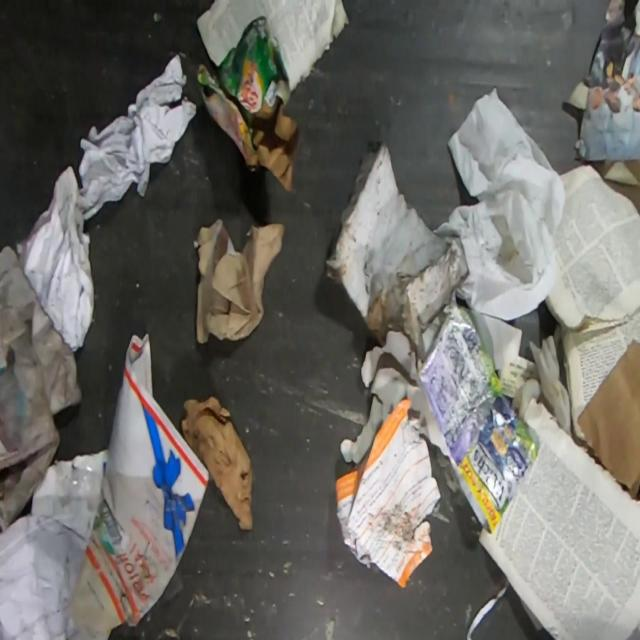cardboard: (70, 332, 210, 640), (193, 11, 300, 193), (177, 394, 255, 528)
soft_plastic: (418, 307, 538, 535)
